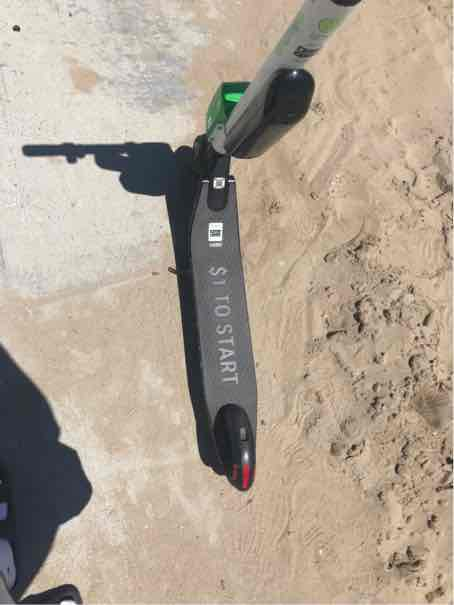scooter: (157, 1, 389, 522)
